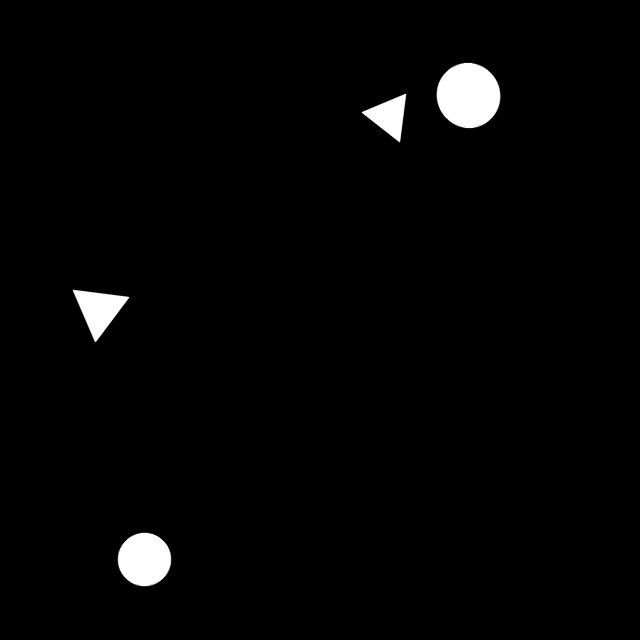Circle: (427, 56, 508, 137), (113, 523, 177, 590)
Triangle: (62, 276, 134, 351), (354, 85, 413, 147)
